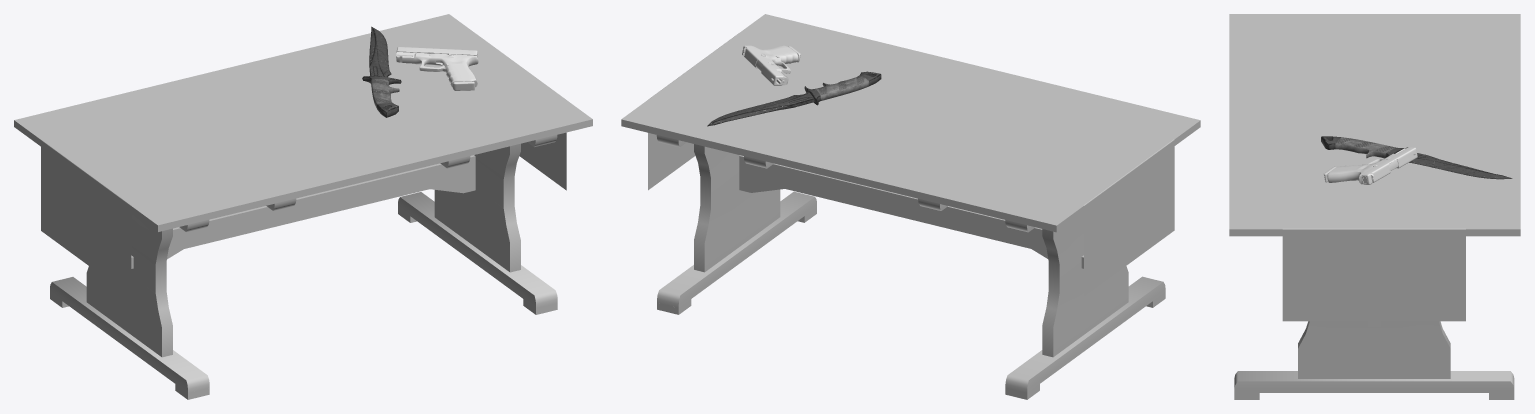
The model's file is Title.fbx.
3 renders of one model, left to right at view 1: azimuth 30°, elevation 25°; view 2: azimuth 150°, elevation 25°; view 3: azimuth 270°, elevation 25°, orthographic.
Parts seen in each view (by area): view 1: Cube_019, Cube_026, LaminaLow, g_low; view 2: Cube_019, Cube_026, LaminaLow, g_low, g2_low; view 3: Cube_026, Cube_019, LaminaLow, g_low, g2_low.
Part boxes in pixels (x1,y1,x2,y2): Cube_019: (14,14,592,399); Cube_026: (41,33,566,296); LaminaLow: (362,26,401,117); g_low: (396,52,478,87); Cube_019: (621,14,1200,399); Cube_026: (648,33,1174,296); LaminaLow: (707,71,881,126); g_low: (752,45,798,85); g2_low: (742,45,785,85); Cube_026: (1282,14,1465,321); Cube_019: (1229,14,1520,399); LaminaLow: (1321,136,1512,179); g_low: (1327,148,1406,184); g2_low: (1361,147,1417,184).
Bounding box in the file's own units: 20015 × 9432 × 11450.
